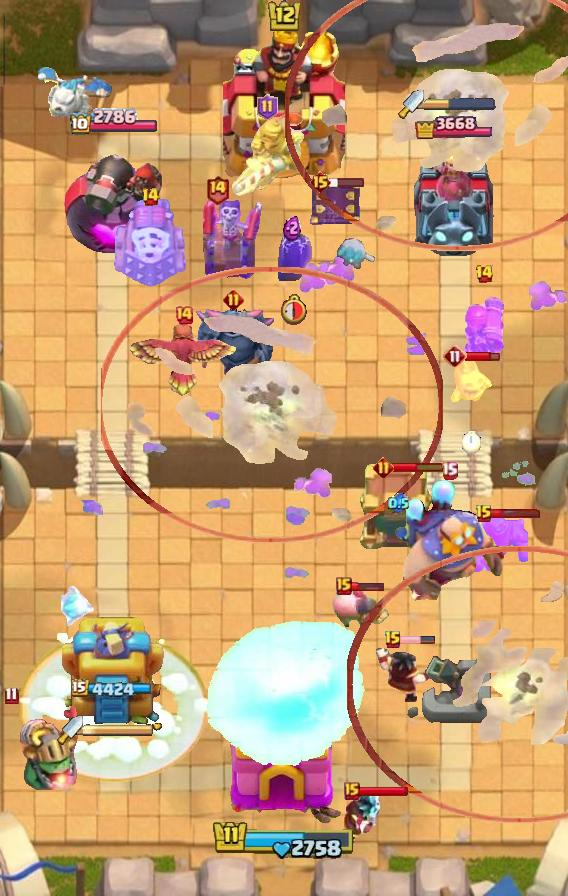bar: (62, 611, 166, 731), (409, 142, 497, 256)
bat: (334, 236, 378, 274), (61, 584, 97, 630)
bomb: (359, 463, 437, 551)
clock: (212, 819, 356, 861)
electro-spirit: (283, 215, 301, 241), (387, 493, 408, 515)
elixir: (278, 293, 307, 325), (462, 431, 482, 453)
emote: (391, 461, 444, 473), (357, 785, 409, 797), (491, 509, 541, 520), (329, 176, 365, 188), (465, 350, 500, 362), (350, 580, 385, 592), (400, 635, 436, 645)
executioner: (329, 586, 389, 632)
golden-knight: (128, 322, 240, 400)
golem: (111, 195, 189, 289)
golemite: (191, 305, 275, 377)
ice-spirit-evolution-symbol: (309, 178, 363, 228)
king-tower: (223, 27, 345, 181), (222, 680, 346, 826)
king-tower-bar: (424, 97, 496, 111), (83, 723, 155, 737)
little-prince: (393, 478, 505, 602)
lumberjack: (372, 645, 438, 703), (340, 787, 386, 847)
mega-knight: (202, 620, 368, 770)
mega-minion: (460, 283, 508, 363)
mini-pekka: (34, 64, 114, 124)
mirror: (450, 355, 492, 405)
night-witch: (0, 700, 82, 794)
phoenix-big: (18, 634, 209, 783)
ram-rider: (228, 109, 306, 199)
royal-ghost: (101, 267, 443, 543), (285, 0, 567, 252), (348, 546, 568, 823)
selected: (69, 108, 159, 137), (416, 113, 493, 143), (72, 679, 156, 700)
skeleton-king-bar: (203, 190, 265, 280)
spear-goblin: (272, 231, 312, 281)
text: (206, 175, 231, 206), (443, 344, 467, 368), (257, 94, 279, 120), (308, 170, 331, 194), (224, 289, 245, 310), (373, 457, 394, 478), (174, 305, 194, 325), (141, 187, 160, 207), (475, 264, 494, 284), (475, 504, 493, 524), (384, 630, 402, 650), (441, 461, 458, 480), (336, 577, 352, 595), (344, 782, 360, 800), (5, 687, 20, 706)
tornado: (466, 513, 528, 573)
tower-bar: (64, 138, 164, 256)
